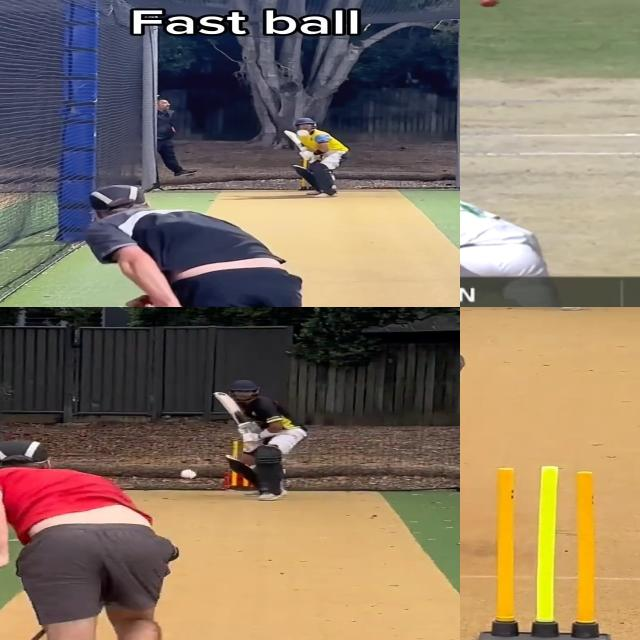Cricket ball: (179, 468, 197, 479), (479, 0, 500, 7), (297, 129, 309, 137)
Stumps: (470, 462, 609, 640)
